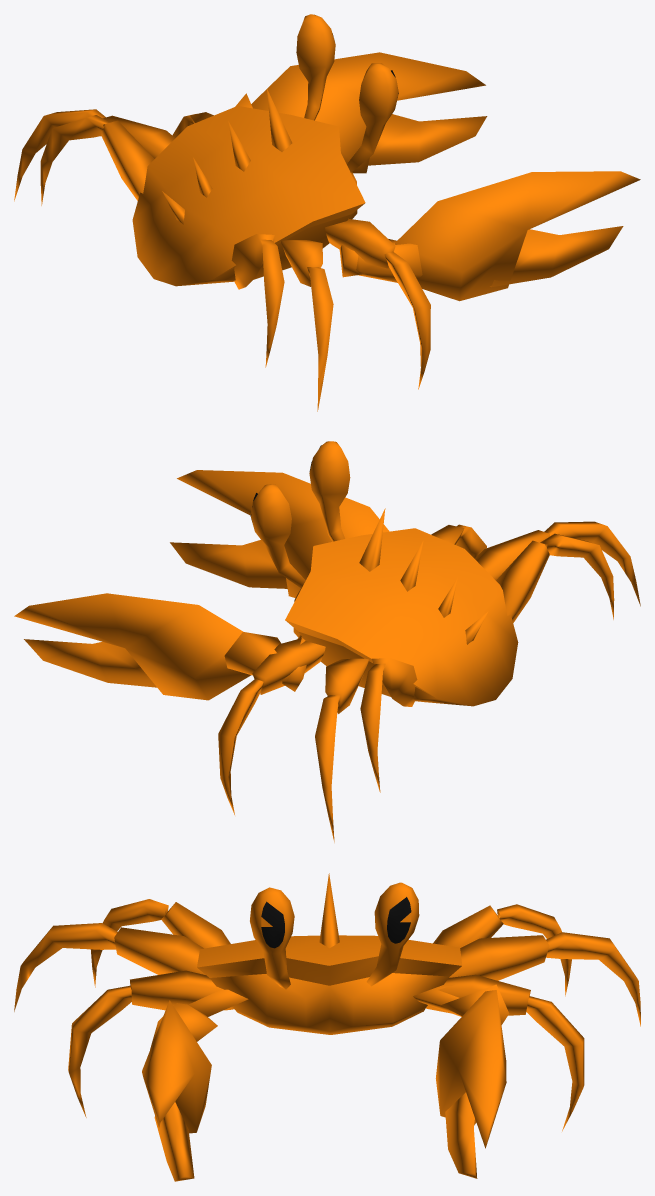
Rendered from CrabCentered.obj.
3 renders of one model, top to bottom at view 1: azimuth 30°, elevation 25°; view 2: azimuth 150°, elevation 25°; view 3: azimuth 270°, elevation 25°, orthographic. The views are drawn at different scales.
Visible parts, largest first — view 1: crab_obj103; view 2: crab_obj103; view 3: crab_obj103.
Boxes of the visible parts, x1,y1,x2,y2 form: crab_obj103: [14, 14, 640, 411]; crab_obj103: [14, 441, 640, 842]; crab_obj103: [14, 873, 640, 1181].
Bounding box in the file's own units: 20.98 × 12.88 × 27.
